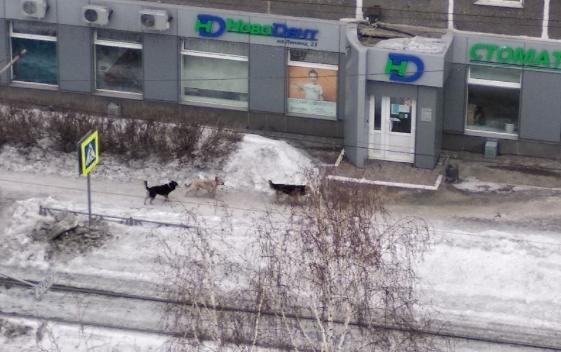normal_dogs: (268, 178, 313, 205), (142, 177, 181, 205), (184, 175, 225, 201)
